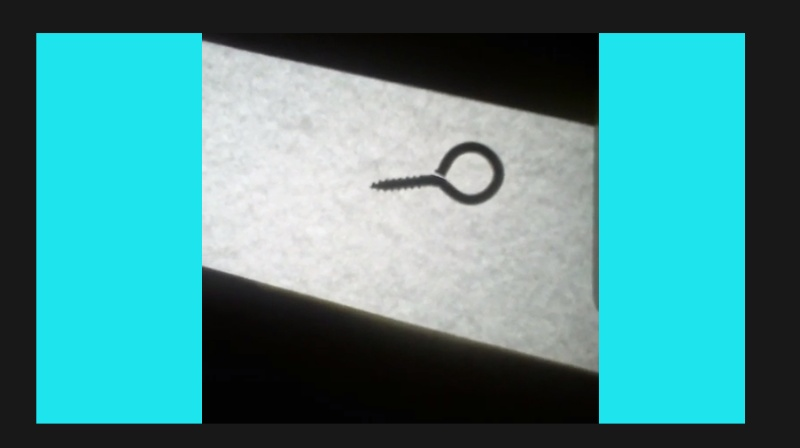O001: (368, 138, 507, 208)
